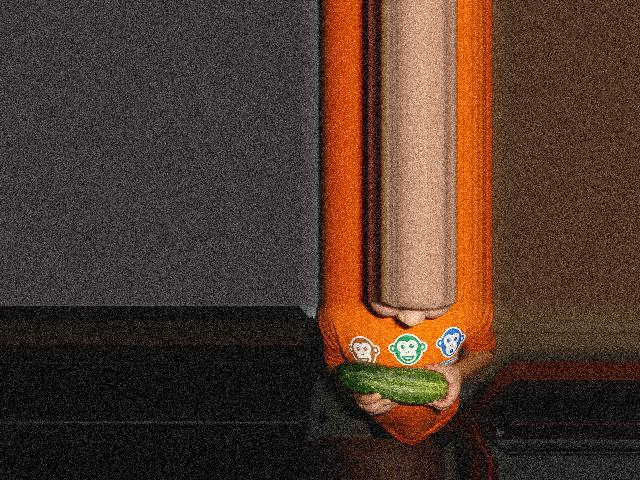cucumber: (334, 361, 448, 404)
